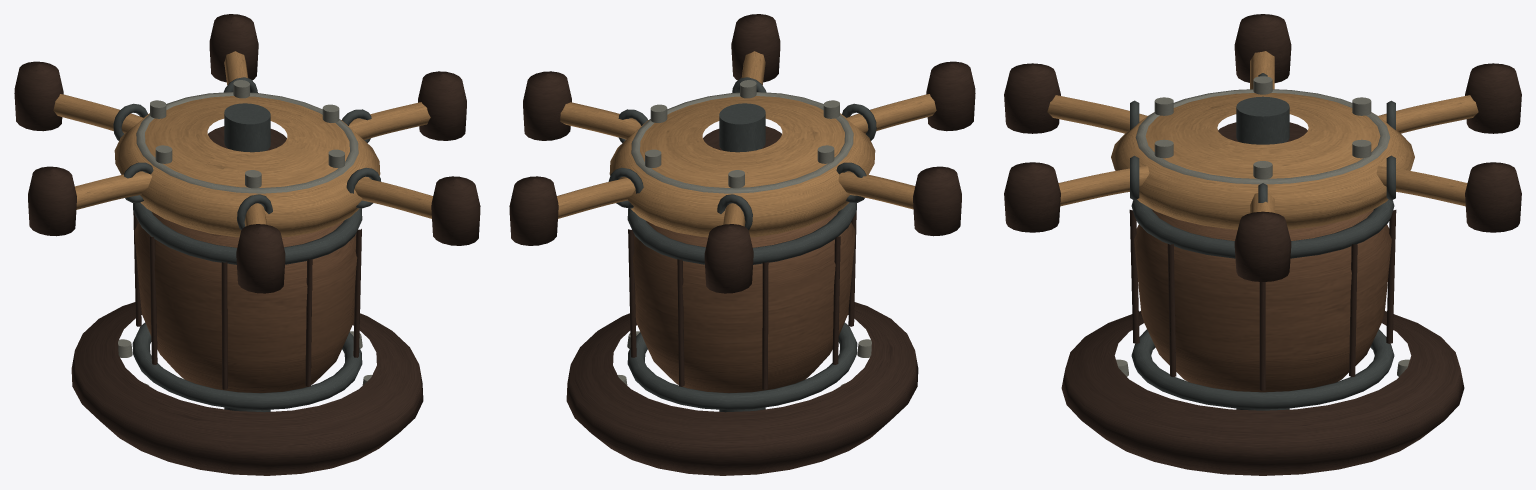
Rendered from capstan.glb.
3 views of the same model, side by side, from view 1: azimuth 30°, elevation 25°; view 2: azimuth 150°, elevation 25°; view 3: azimuth 270°, elevation 25° (orthographic). The views are drawn at different scales.
Visible parts, largest first — view 1: capstan; view 2: capstan; view 3: capstan.
Part boxes in pixels (<box>): capstan: <box>14,14,480,475</box>; capstan: <box>509,14,975,475</box>; capstan: <box>1004,14,1521,475</box>.
Bounding box in the file's own units: 1.4 × 1 × 1.4.
Materials: 1 (1 with a texture image).
